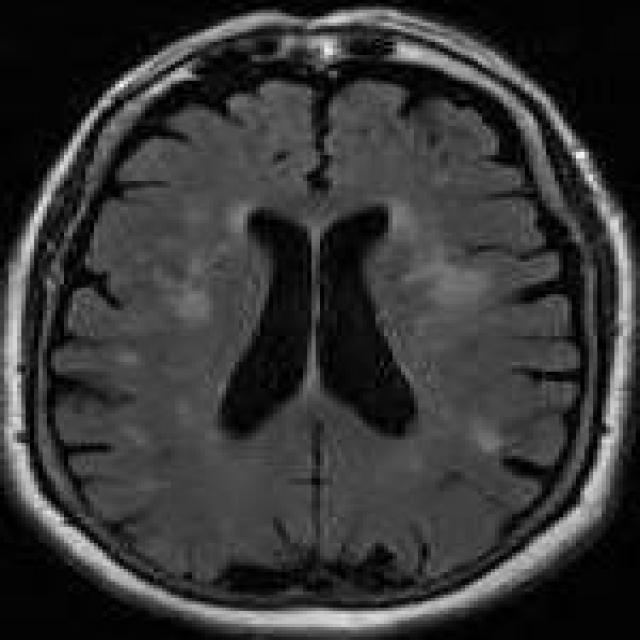notumor: (4, 10, 627, 630)
